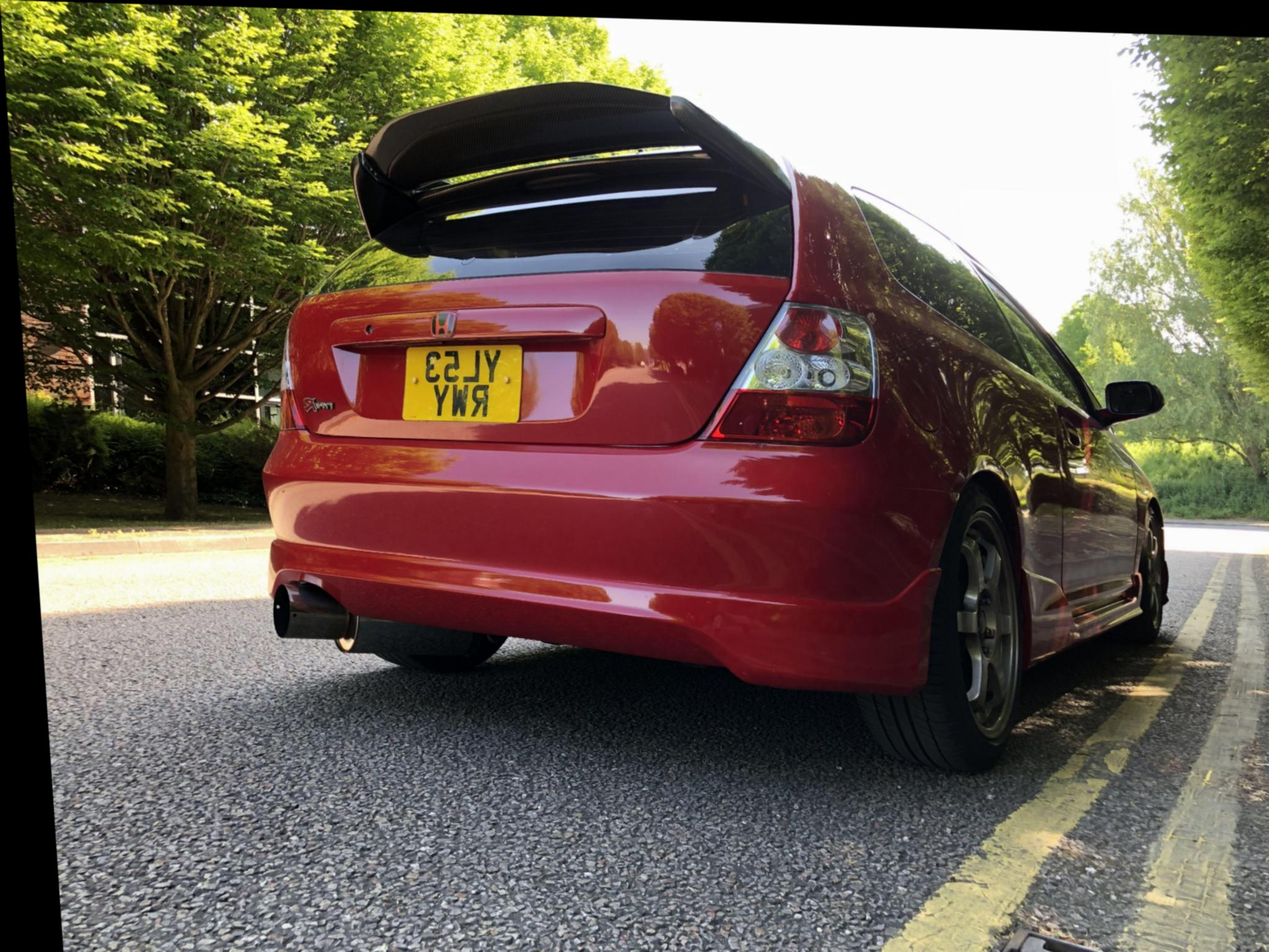License_Plate: (391, 331, 534, 431)
